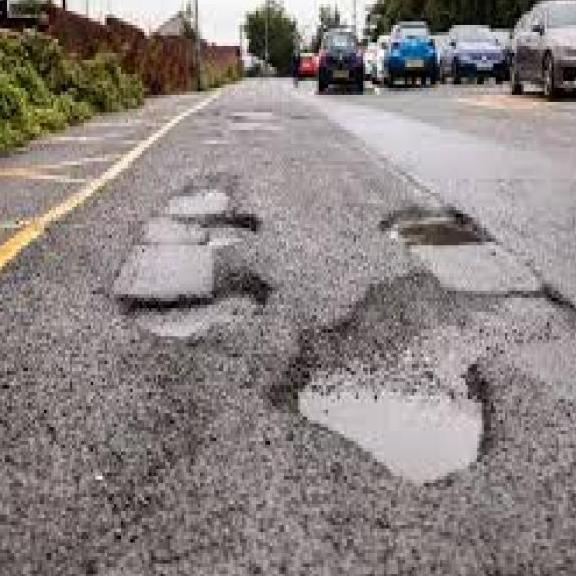pothole: (266, 271, 507, 495), (106, 263, 281, 348), (377, 196, 494, 252), (193, 206, 266, 252)
